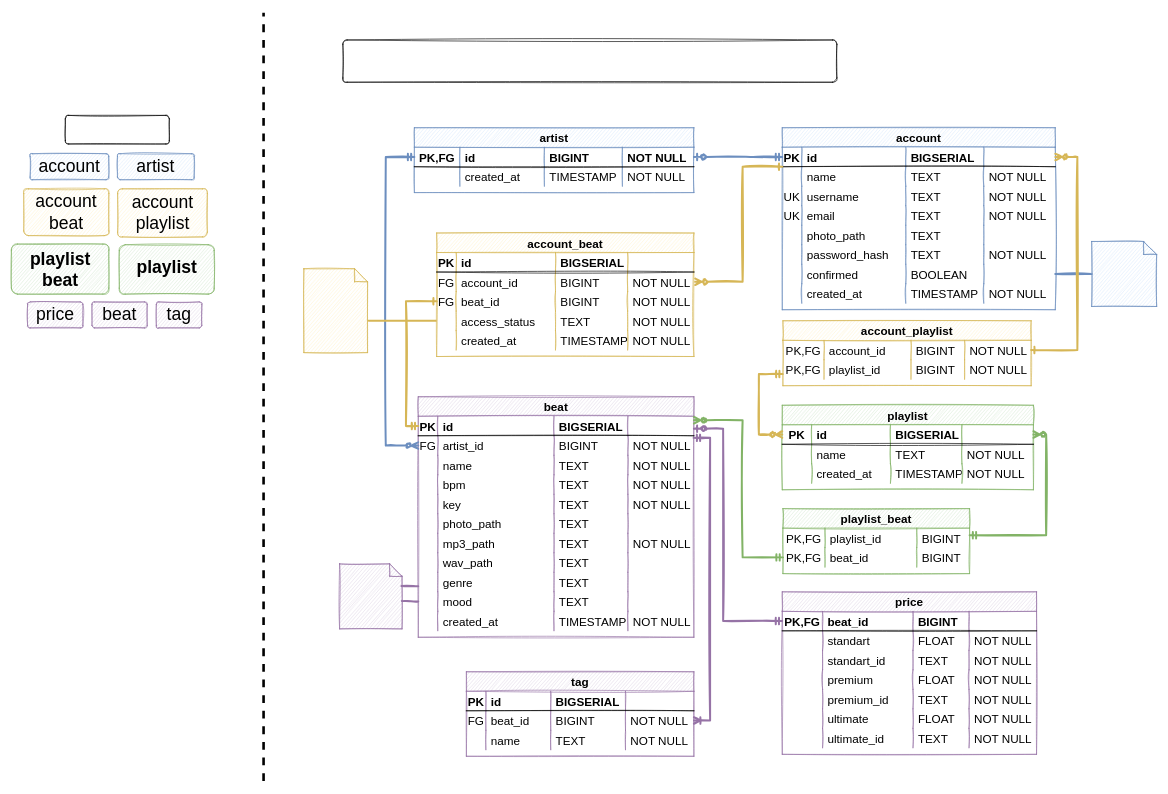
Some shapes in this 1168 by 794 pixel diagram are drawn without their labels. The centre of each missing label's shape, as x and y in pixels:
BEAT STORE DATABASE: point 589,60
check: standart premium ultimate: point 335,310
default: "All": point 370,596
default: false: point 1124,273
entities: point 117,129
